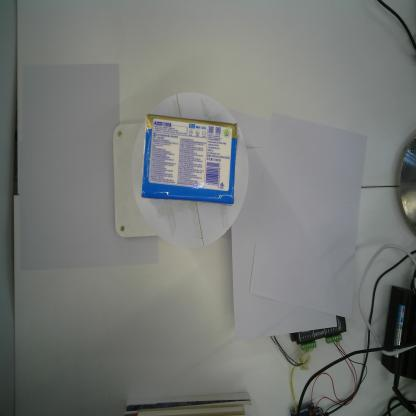Tissue: (140, 112, 240, 207)
